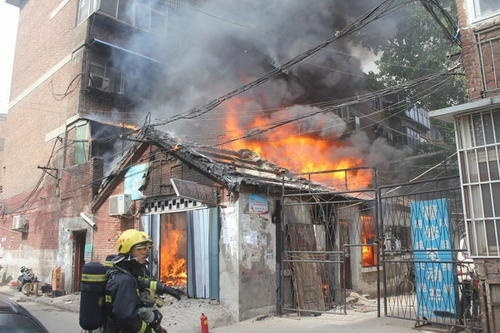fire: (221, 109, 370, 183), (160, 217, 186, 282), (359, 211, 375, 264)
